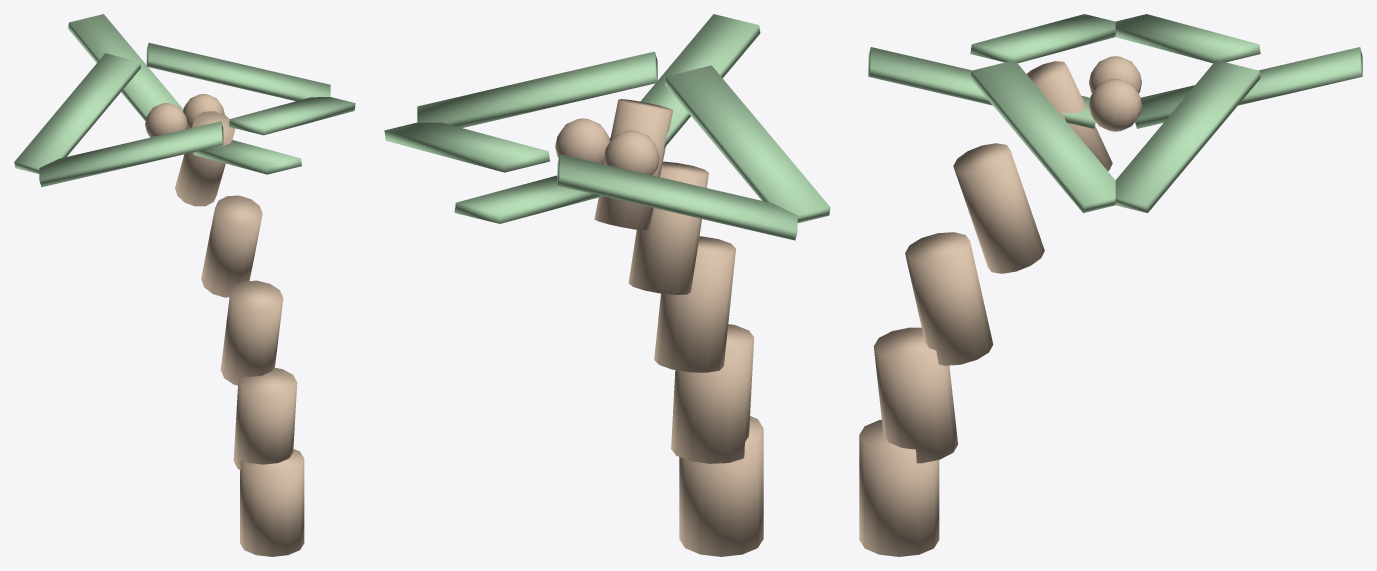
Rendered from coconut_tree.glb.
3 renders of one model, left to right at view 1: azimuth 30°, elevation 25°; view 2: azimuth 150°, elevation 25°; view 3: azimuth 270°, elevation 25°, orthographic. The views are drawn at different scales.
Parts seen in each view (by area): view 1: trunk_seg_0, trunk_seg_1, leaf_5, trunk_seg_2, leaf_4, trunk_seg_3, leaf_1, leaf_0, leaf_2, trunk_seg_4, leaf_3, coconut1 (+1 smaller); view 2: leaf_4, trunk_seg_0, trunk_seg_1, leaf_5, trunk_seg_2, leaf_2, trunk_seg_3, leaf_1, leaf_3, trunk_seg_4, leaf_0, coconut1 (+1 smaller); view 3: trunk_seg_0, trunk_seg_1, trunk_seg_2, leaf_2, leaf_1, trunk_seg_3, leaf_0, leaf_3, leaf_4, leaf_5, trunk_seg_4, coconut2 (+1 smaller).
Part boxes in pixels (x1,y1,x2,y2): trunk_seg_0: [240, 449, 304, 556]; trunk_seg_1: [233, 367, 297, 469]; leaf_5: [14, 53, 140, 173]; trunk_seg_2: [220, 280, 283, 385]; leaf_4: [39, 121, 223, 187]; trunk_seg_3: [201, 195, 262, 297]; leaf_1: [146, 43, 330, 101]; leaf_0: [68, 14, 187, 128]; leaf_2: [229, 97, 355, 135]; trunk_seg_4: [175, 111, 234, 206]; leaf_3: [193, 140, 301, 174]; coconut1: [145, 103, 187, 137]; leaf_4: [665, 65, 830, 222]; trunk_seg_0: [679, 416, 763, 556]; trunk_seg_1: [671, 324, 754, 463]; leaf_5: [557, 154, 797, 240]; trunk_seg_2: [654, 236, 735, 372]; leaf_2: [417, 51, 657, 127]; trunk_seg_3: [628, 161, 708, 294]; leaf_1: [384, 122, 549, 172]; leaf_3: [604, 14, 760, 164]; trunk_seg_4: [594, 99, 672, 230]; leaf_0: [454, 175, 602, 223]; coconut1: [603, 130, 659, 175]; trunk_seg_0: [859, 419, 939, 556]; trunk_seg_1: [873, 327, 957, 463]; trunk_seg_2: [905, 232, 993, 365]; leaf_2: [970, 60, 1115, 213]; leaf_1: [1115, 60, 1260, 212]; trunk_seg_3: [953, 143, 1044, 273]; leaf_0: [1135, 47, 1362, 128]; leaf_3: [868, 47, 1095, 128]; leaf_4: [970, 14, 1115, 63]; leaf_5: [1115, 14, 1260, 63]; trunk_seg_4: [1027, 61, 1112, 170]; coconut2: [1089, 78, 1141, 131].
Size of the model in its own units: 1.36 by 1.6 by 1.51.
